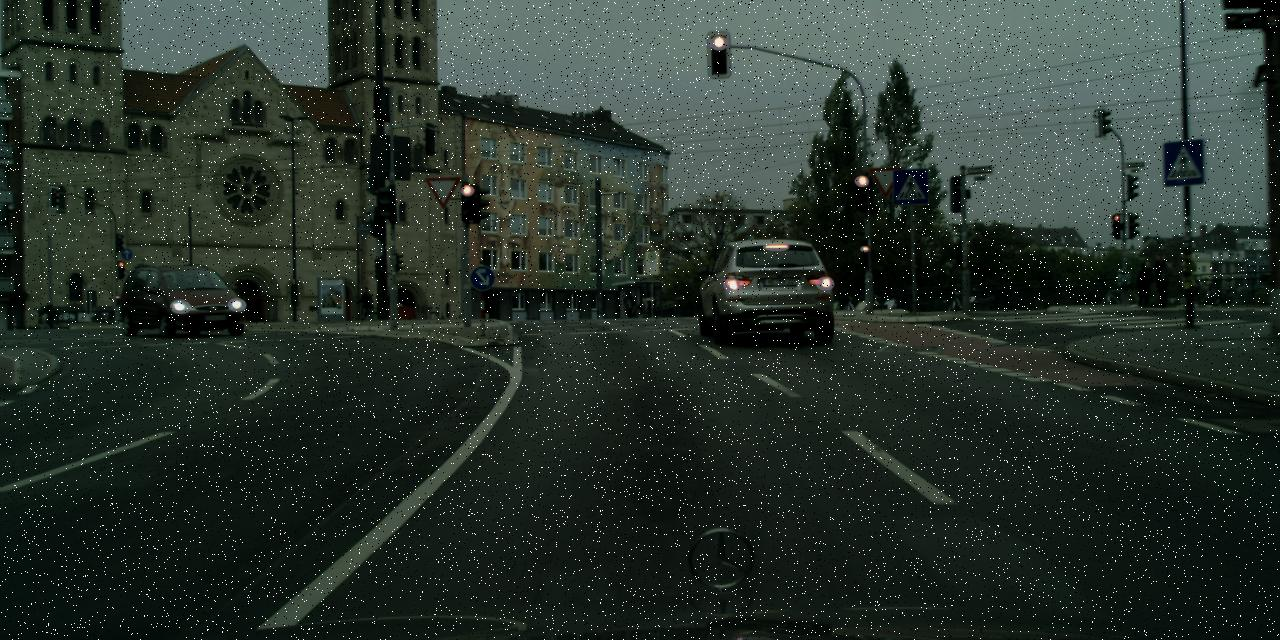ped: (1150, 254, 1172, 308), (1135, 261, 1154, 308), (359, 286, 373, 320), (43, 300, 55, 331)
